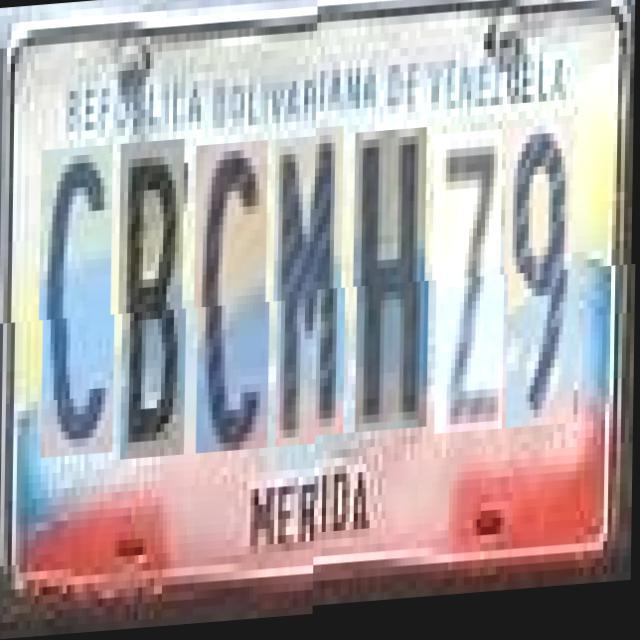9: (507, 133, 578, 445)
B: (122, 142, 189, 462)
C: (42, 146, 118, 459), (198, 144, 272, 457)
H: (356, 142, 432, 446)
M: (277, 140, 348, 452)
Z: (436, 146, 506, 450)
